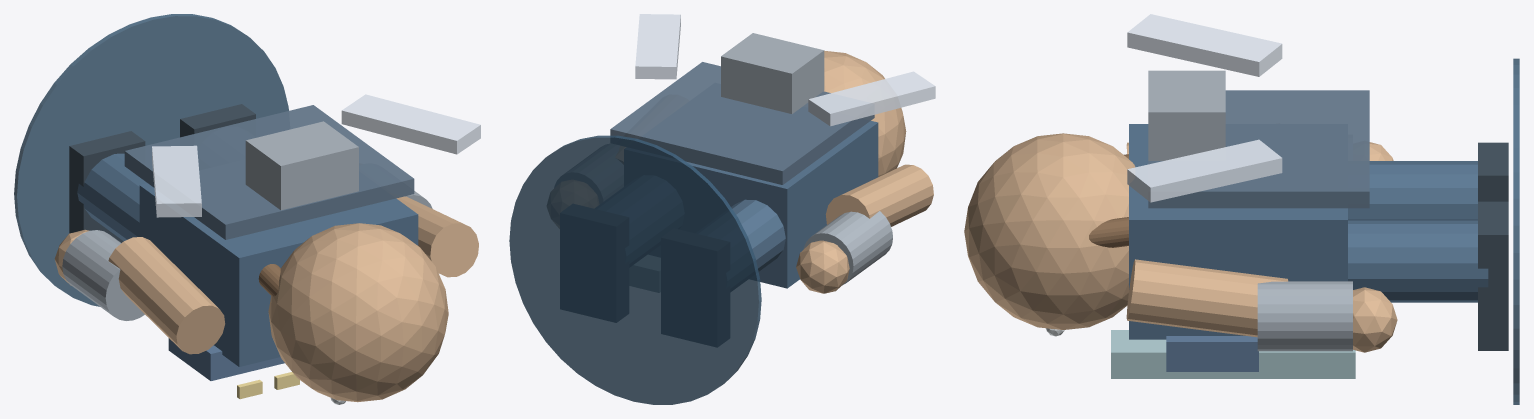
The model's file is SW_NPC_019_solis_noxwind.glb.
3 renders of one model, left to right at view 1: azimuth 30°, elevation 25°; view 2: azimuth 150°, elevation 25°; view 3: azimuth 270°, elevation 25°, orthographic. The views are drawn at different scales.
Parts seen in each view (by area): view 1: round_base_plate, head, torso_uniform, storm_cloak, wingpack_core, left_upper_arm, right_wing_rig, left_forearm_gauntlet, left_leg, left_wing_rig, right_upper_arm, left_boot (+4 smaller); view 2: round_base_plate, storm_cloak, torso_uniform, wingpack_core, left_upper_arm, left_wing_rig, head, left_forearm_gauntlet, right_wing_rig, left_leg, left_hand; view 3: head, storm_cloak, torso_uniform, right_leg, right_upper_arm, left_leg, right_forearm_gauntlet, wingpack_core, rank_sash, right_wing_rig, left_wing_rig, right_boot (+5 smaller).
Part boxes in pixels (x1,y1,x2,y2): round_base_plate: [14, 14, 288, 306]; head: [268, 223, 448, 402]; torso_uniform: [139, 183, 418, 366]; storm_cloak: [124, 105, 414, 239]; wingpack_core: [245, 121, 358, 210]; left_upper_arm: [108, 237, 225, 354]; right_wing_rig: [341, 94, 480, 154]; left_forearm_gauntlet: [62, 230, 144, 320]; left_leg: [77, 153, 147, 240]; left_wing_rig: [152, 145, 201, 217]; right_upper_arm: [396, 196, 478, 277]; left_boot: [69, 131, 145, 242]; round_base_plate: [509, 135, 761, 404]; storm_cloak: [610, 62, 874, 184]; torso_uniform: [686, 121, 878, 288]; wingpack_core: [721, 33, 824, 113]; left_upper_arm: [825, 164, 933, 226]; left_wing_rig: [808, 71, 935, 126]; head: [824, 50, 906, 176]; left_forearm_gauntlet: [803, 211, 892, 285]; right_wing_rig: [635, 14, 680, 79]; left_leg: [731, 199, 785, 271]; left_hand: [796, 240, 849, 293]; head: [964, 133, 1135, 329]; storm_cloak: [1148, 90, 1369, 208]; torso_uniform: [1129, 124, 1347, 339]; right_leg: [1348, 220, 1488, 302]; right_upper_arm: [1126, 259, 1288, 337]; left_leg: [1348, 161, 1477, 220]; right_forearm_gauntlet: [1257, 281, 1352, 351]; wingpack_core: [1148, 70, 1225, 160]; rank_sash: [1111, 330, 1355, 378]; right_wing_rig: [1127, 139, 1282, 202]; left_wing_rig: [1127, 14, 1282, 76]; right_boot: [1478, 201, 1508, 350].
Size of the model in its own units: 1.26 by 1.05 by 1.68.
